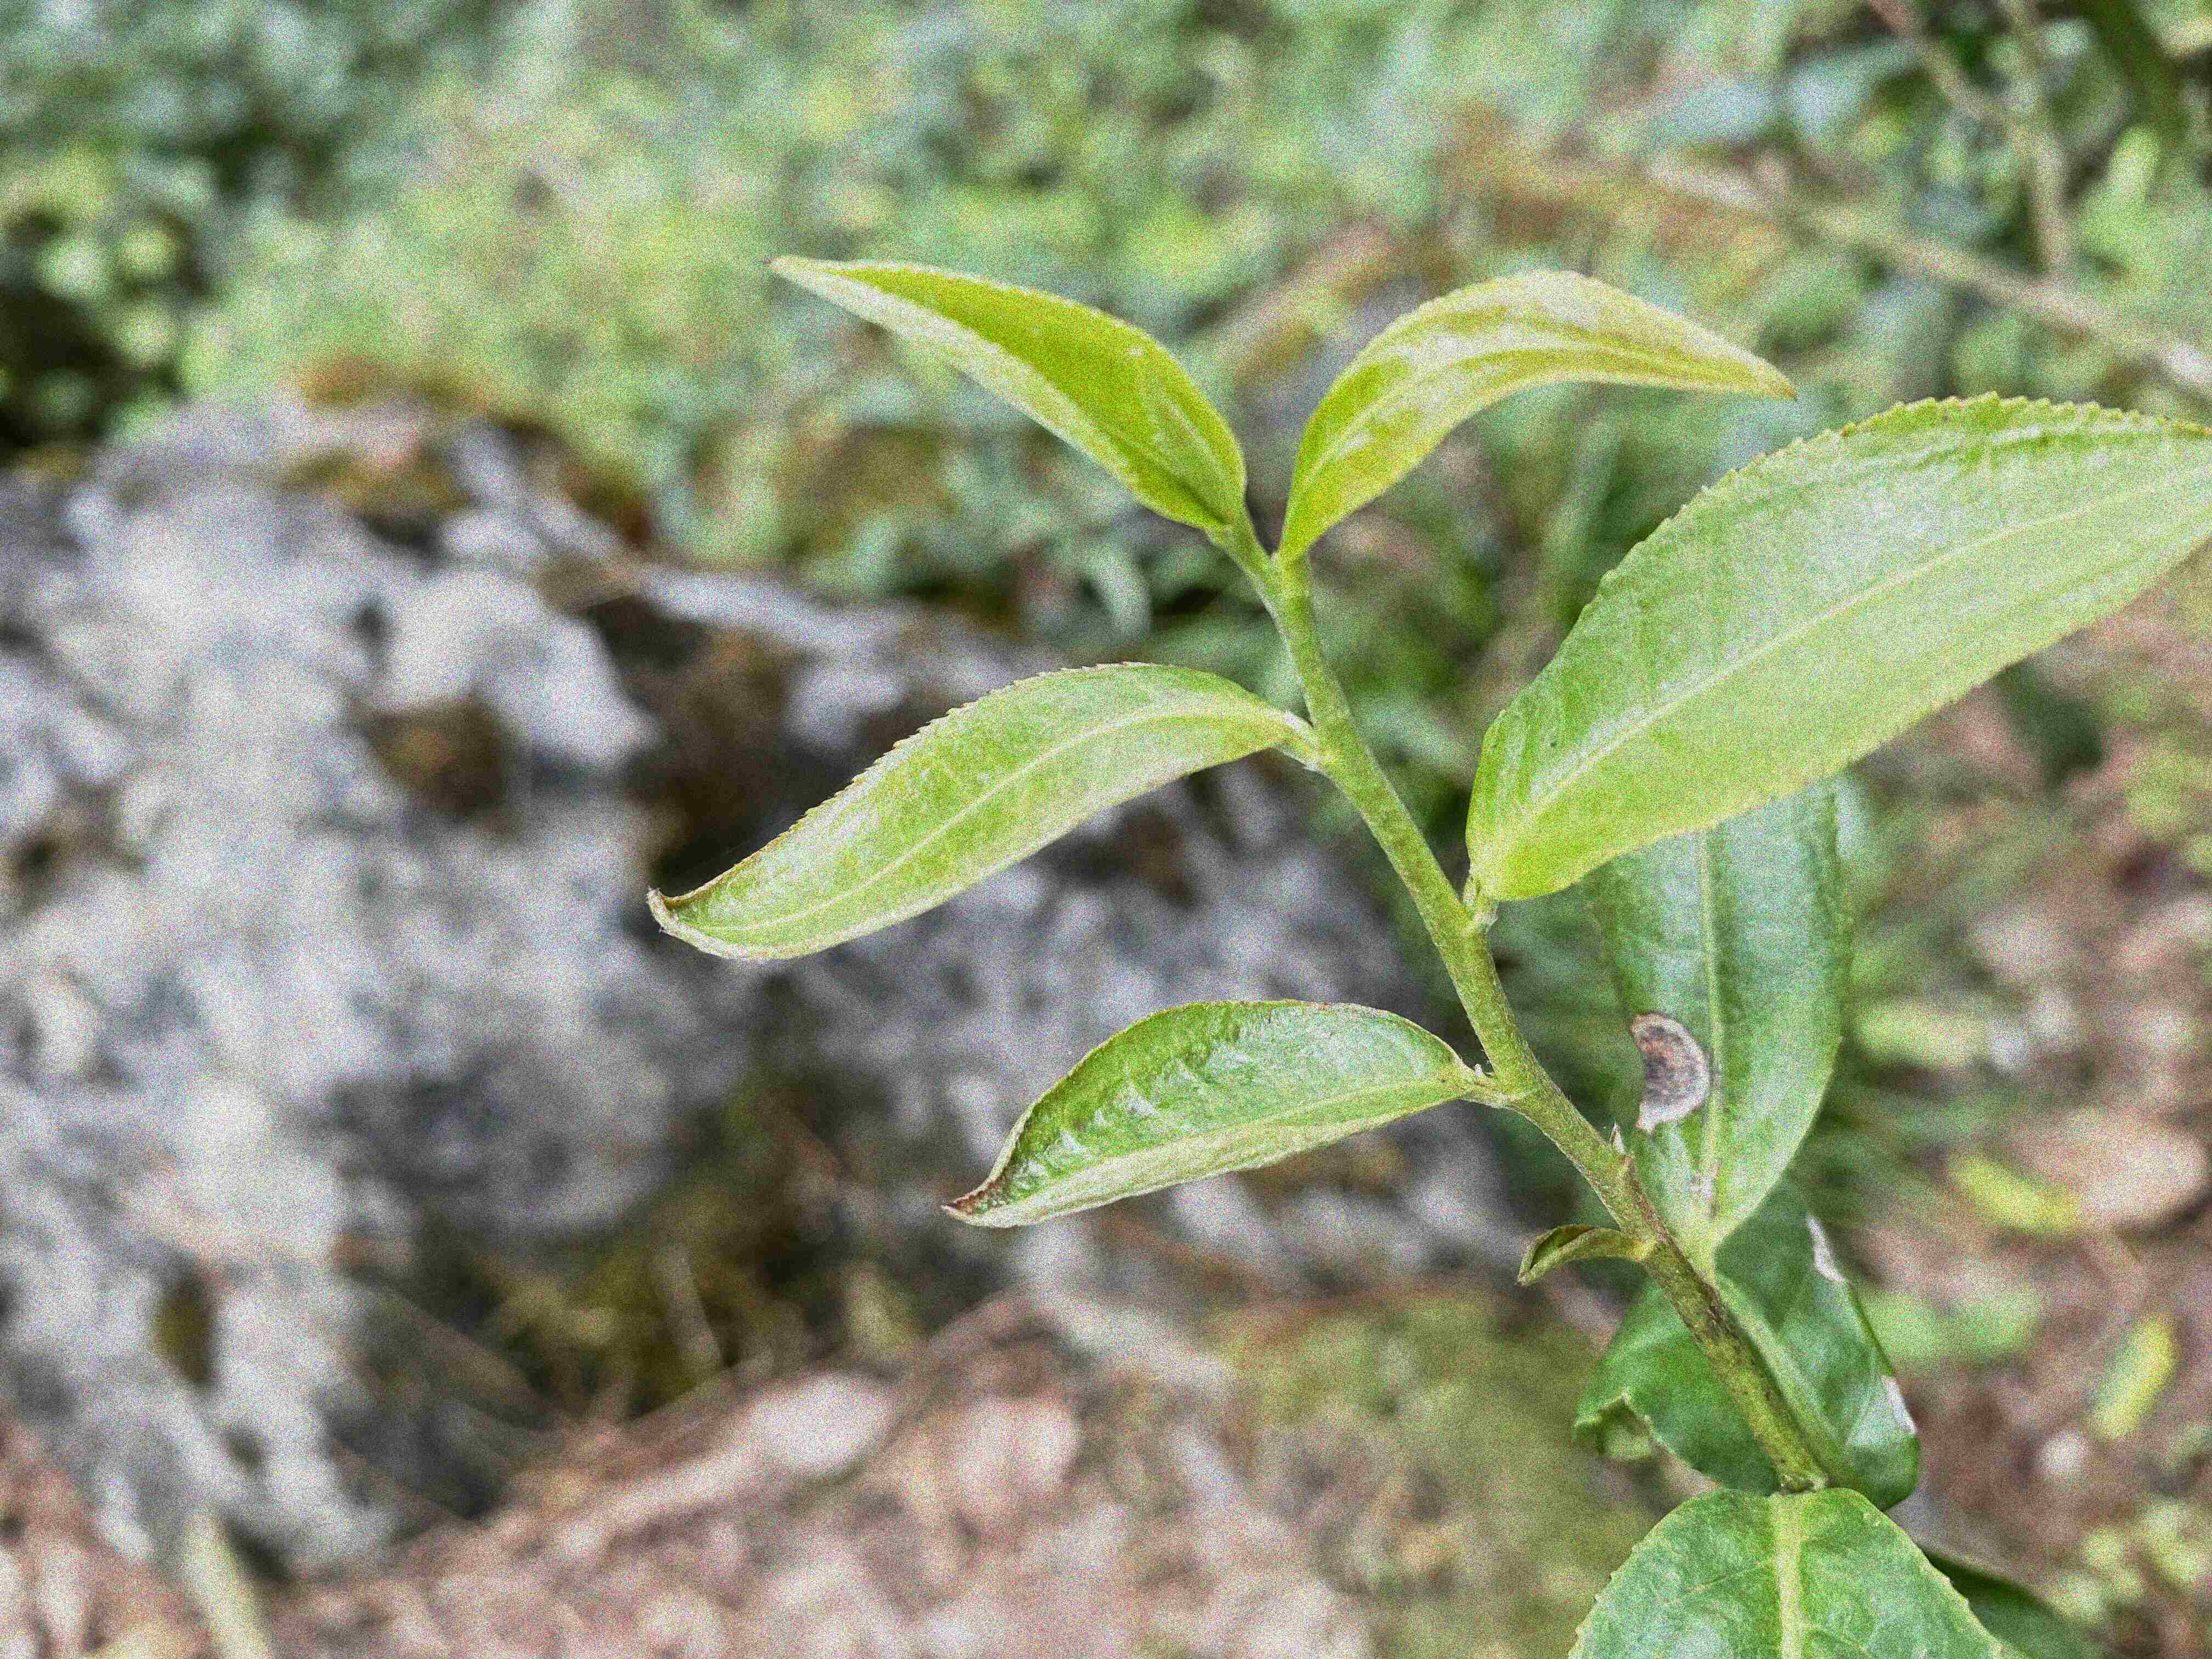healthy: (1463, 390, 2209, 903), (1280, 265, 1801, 537), (765, 261, 1251, 535)
tanju_high: (1583, 779, 1855, 1237)
tanju_low: (644, 662, 1284, 964), (939, 993, 1480, 1230)
